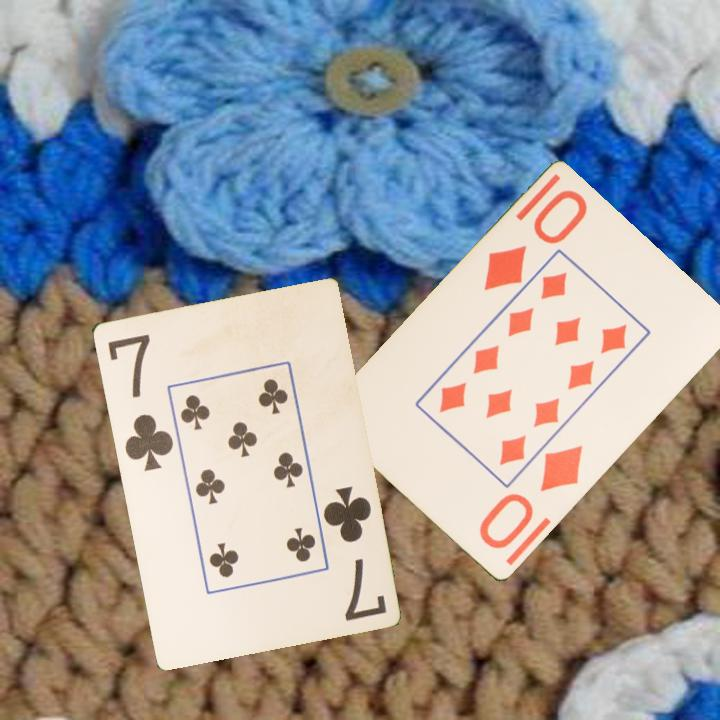10d: (475, 442, 586, 553), (480, 186, 591, 295)
7c: (104, 330, 176, 474), (319, 482, 389, 624)
